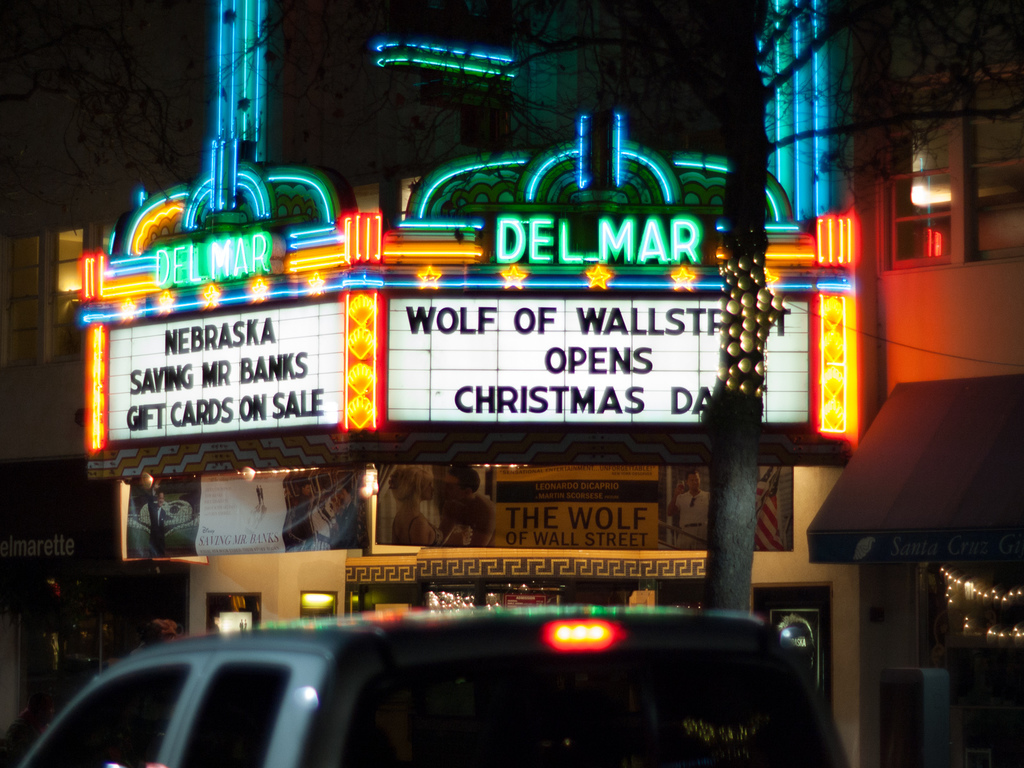cars: (12, 604, 849, 766)
